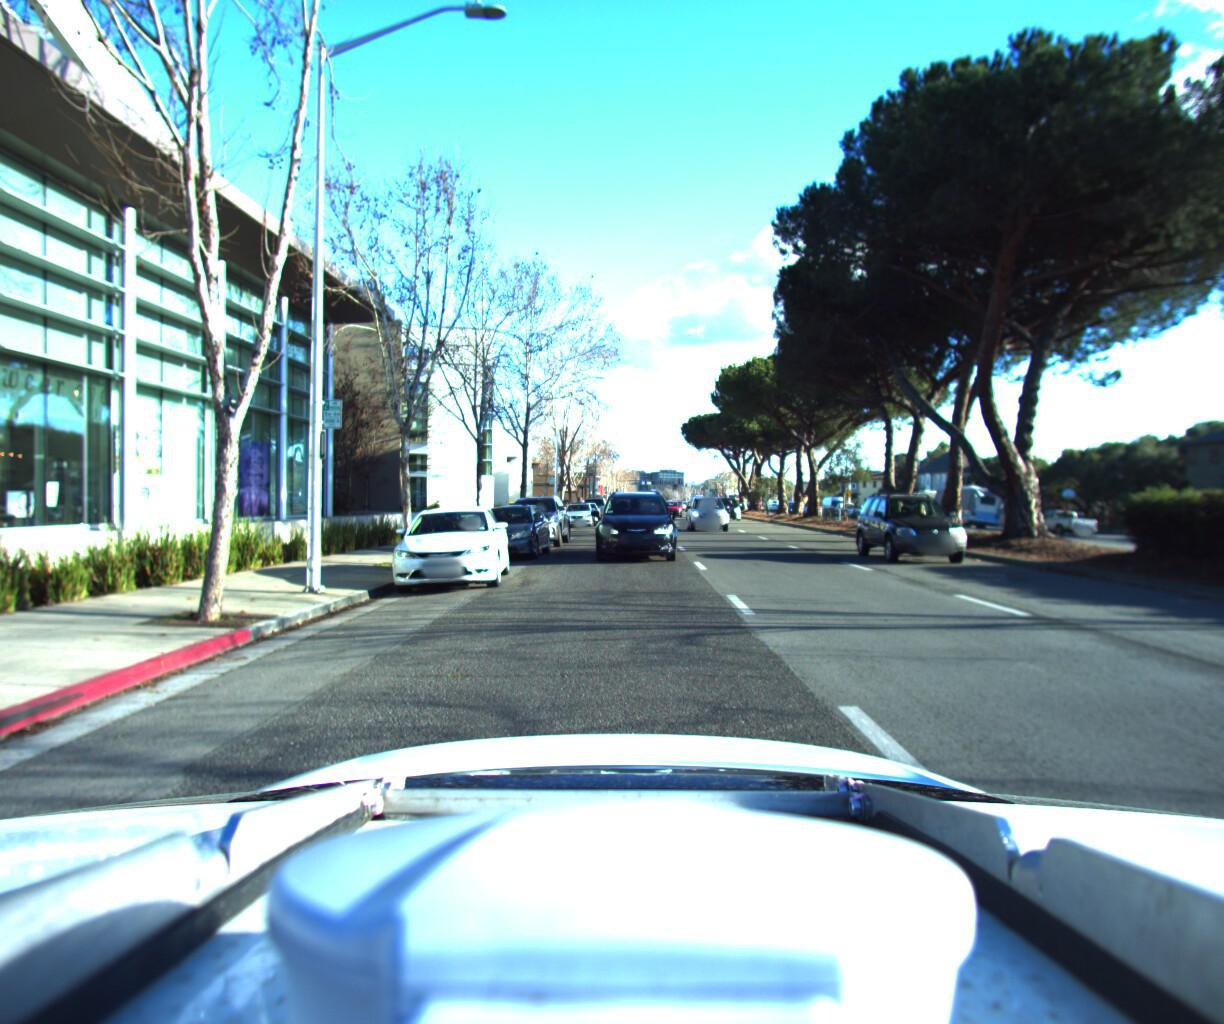car: (859, 473, 1009, 566), (376, 497, 512, 597), (589, 479, 673, 562), (461, 496, 554, 557), (497, 487, 571, 546), (1023, 501, 1101, 531), (688, 489, 738, 529), (557, 495, 597, 523), (711, 489, 746, 515)
other_vehicle: (927, 478, 1009, 523), (889, 481, 950, 521)
